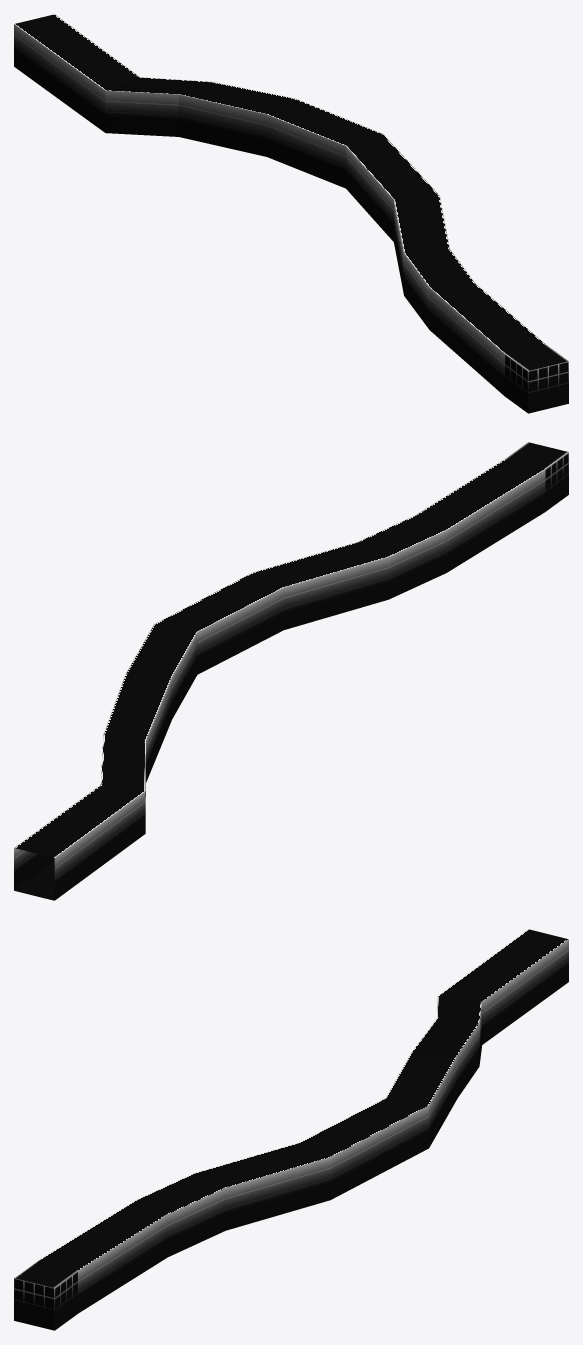
The model's file is scifi_cube_slope2.dae.
3 renders of one model, top to bottom at view 1: azimuth 30°, elevation 25°; view 2: azimuth 150°, elevation 25°; view 3: azimuth 330°, elevation 25°, orthographic.
Visible parts, largest first — view 1: Cube; view 2: Cube; view 3: Cube.
Part boxes in pixels (<box>): Cube: <box>14,14,568,413</box>; Cube: <box>14,442,568,900</box>; Cube: <box>14,929,568,1330</box>.
Size of the model in its own units: 6.64 by 43.72 by 3.34.
2 materials, 2 textured.
